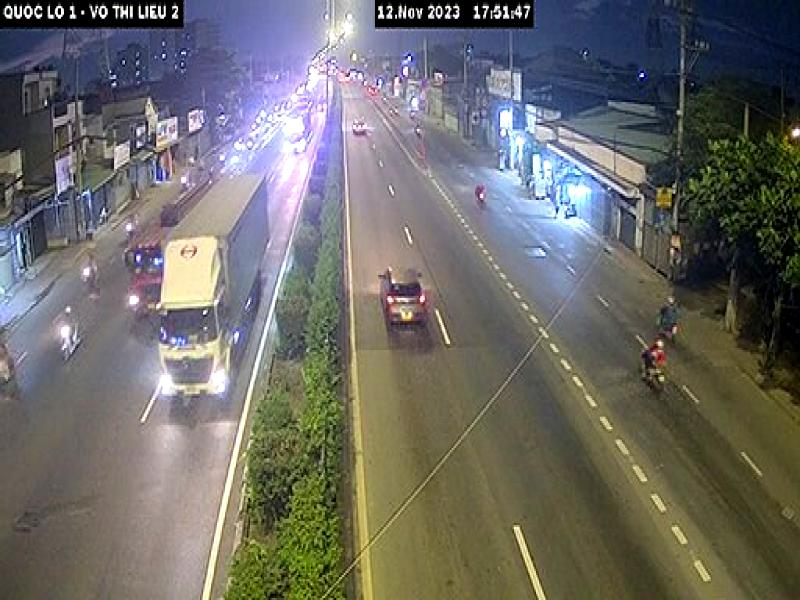truck: (156, 169, 274, 408)
